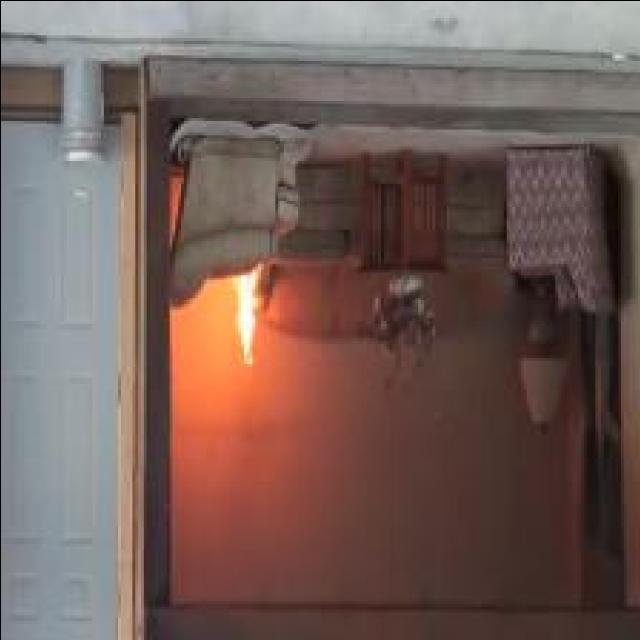Fire: (230, 266, 262, 363)
